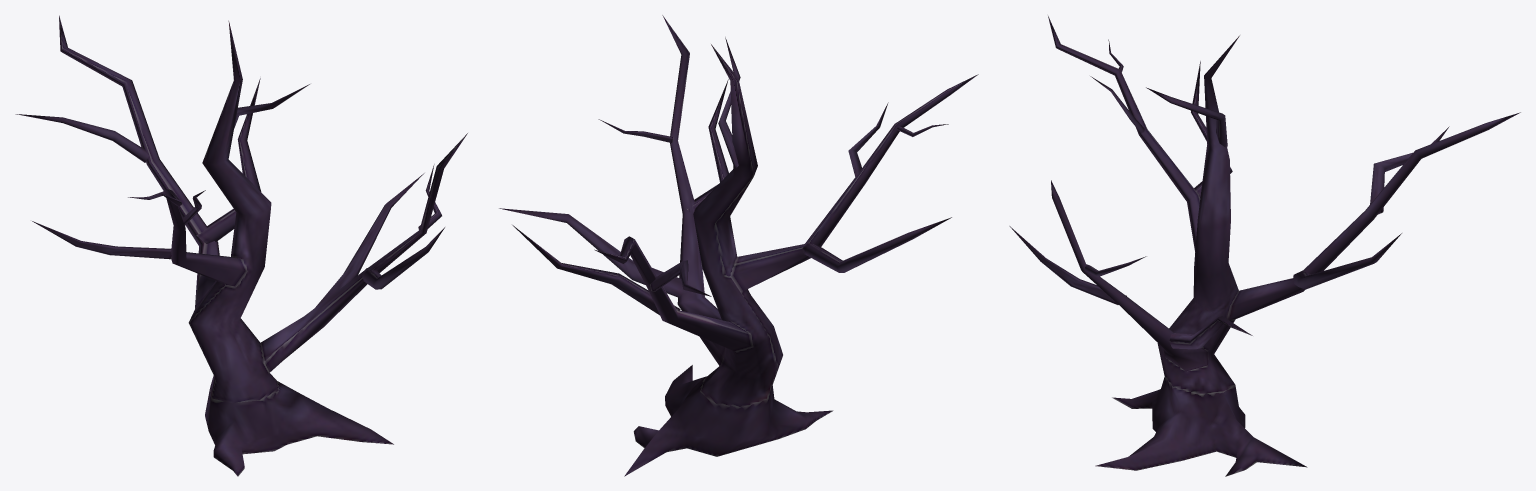
The model's file is Crypt_tree_1.fbx.
3 renders of one model, left to right at view 1: azimuth 30°, elevation 25°; view 2: azimuth 150°, elevation 25°; view 3: azimuth 270°, elevation 25°, orthographic. The views are drawn at different scales.
Visible parts, largest first — view 1: Crypt_tree_1; view 2: Crypt_tree_1; view 3: Crypt_tree_1.
Part boxes in pixels (x1=…): Crypt_tree_1: x1=15, y1=15, x2=467, y2=476; Crypt_tree_1: x1=499, y1=15, x2=978, y2=476; Crypt_tree_1: x1=1009, y1=16, x2=1520, y2=476.
Bounding box in the file's own units: 6.78 × 6.37 × 7.24.
Materials: 1 (1 with a texture image).
